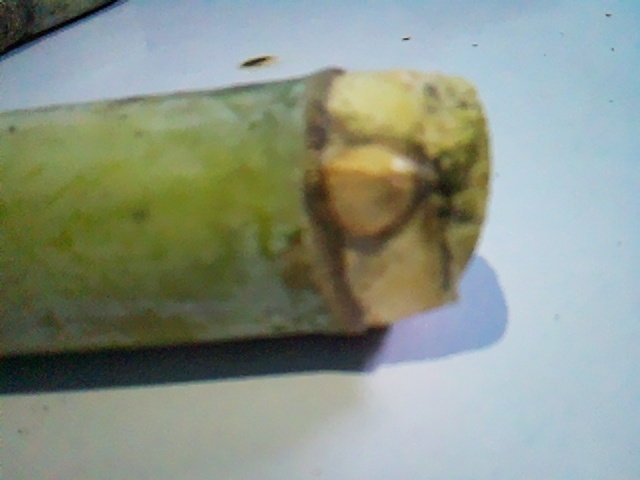Good Sugarcane: (0, 63, 506, 353)
Node: (271, 61, 411, 342)
